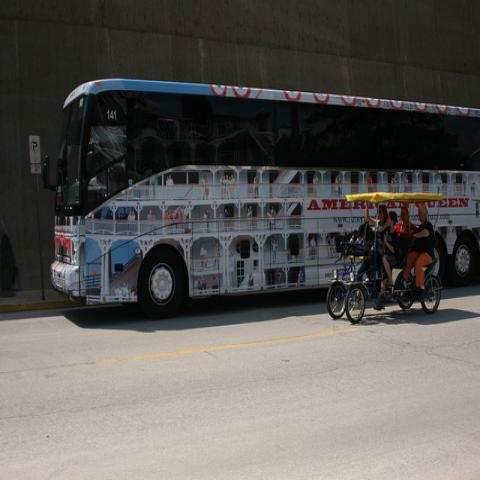bus: (43, 74, 479, 320)
